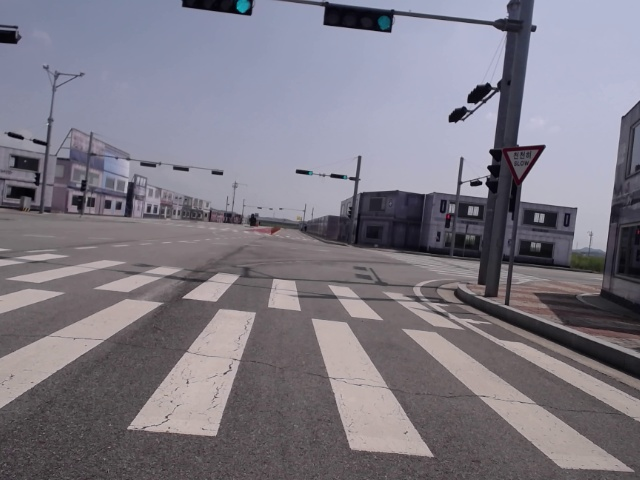straight_green_4: (323, 3, 391, 32), (181, 1, 255, 18), (298, 170, 313, 177), (331, 173, 348, 179)
